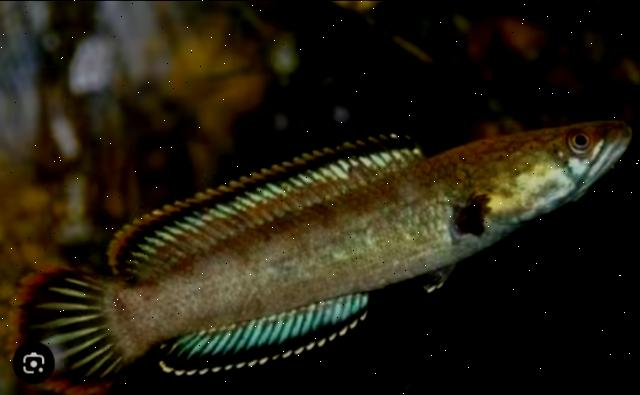Mulut: (556, 112, 640, 204)
Sirip Anal: (158, 288, 370, 378)
Sirip Dada: (448, 188, 500, 244)
Sirip Ekor: (15, 257, 138, 395)
Sirip Perut: (417, 253, 471, 301)
Sirip Punggung: (104, 124, 423, 284)
